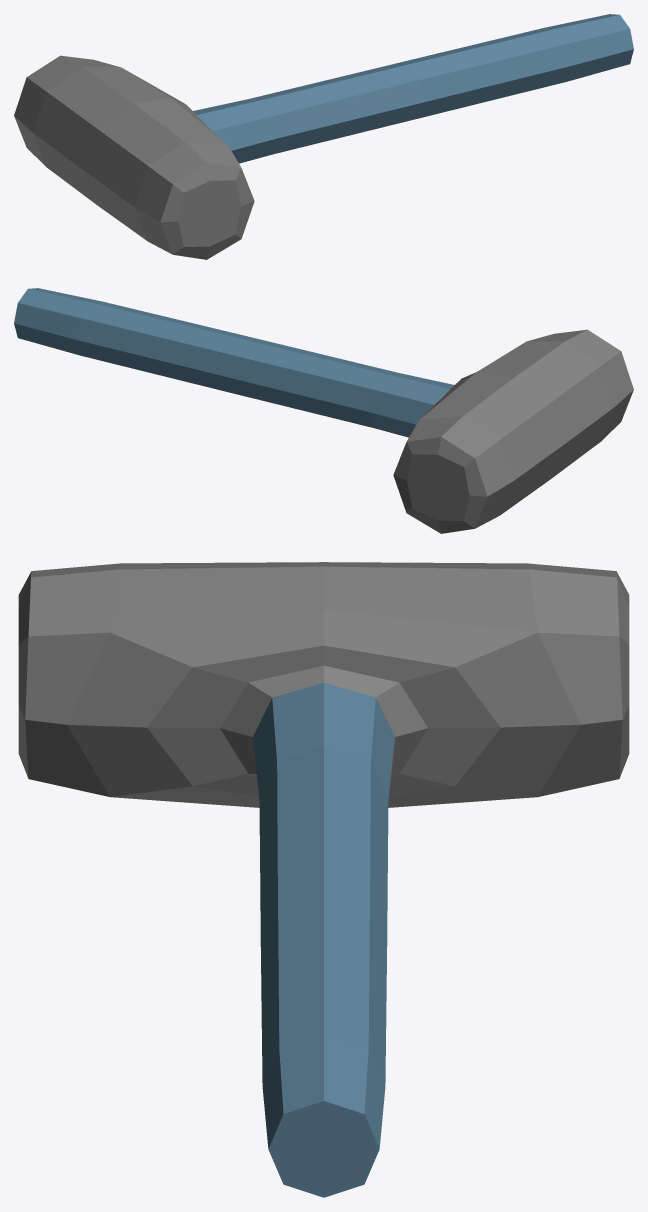
The model's file is Hammer.fbx.
3 renders of one model, top to bottom at view 1: azimuth 30°, elevation 25°; view 2: azimuth 150°, elevation 25°; view 3: azimuth 270°, elevation 25°, orthographic. The views are drawn at different scales.
Visible parts, largest first — view 1: Hammer; view 2: Hammer; view 3: Hammer.
Boxes of the visible parts, x1,y1,x2,y2 form: Hammer: (14, 14, 633, 259); Hammer: (14, 288, 633, 533); Hammer: (18, 562, 629, 1197).
Bounding box in the file's own units: 97.47 × 18.75 × 48.
